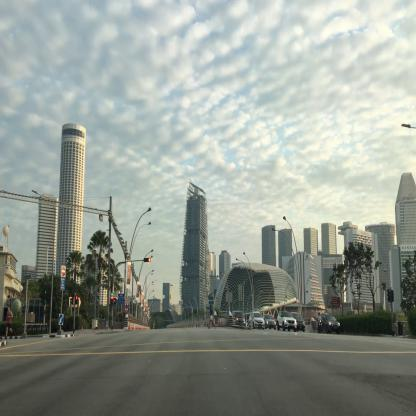red_traffic_light: (144, 258, 151, 262), (110, 296, 112, 305)
